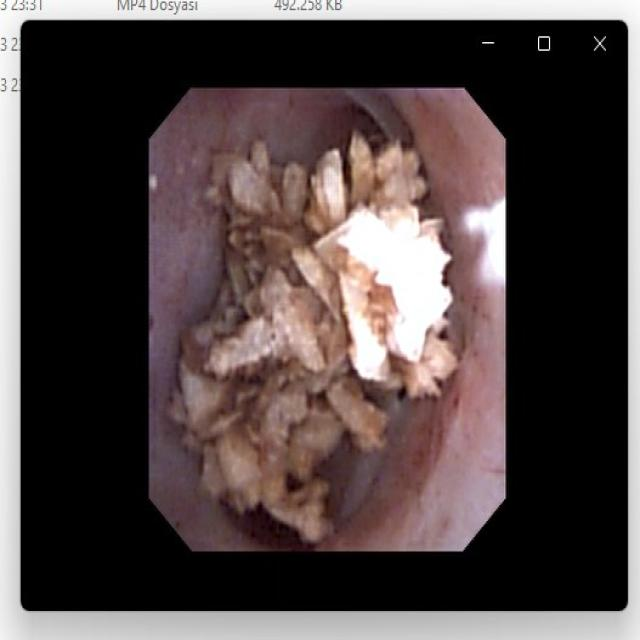stone: (168, 129, 457, 543)
